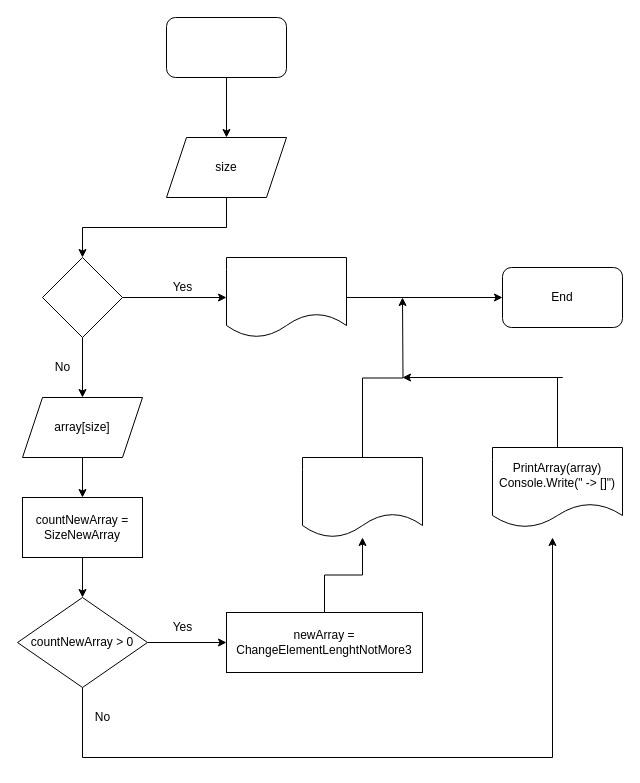
Image size: 640x783. Some labels were removed from this diagram. Here are the shapes that lost their labels. From the top down, the centre of each, then its label:
(x=226, y=47): Start
(x=82, y=297): size < 1
(x=286, y=297): Console.WriteLine ("Введите число больше 0")
(x=362, y=497): PrintArray(array) Console.Write(" -> ") PrintArray(newArray)
